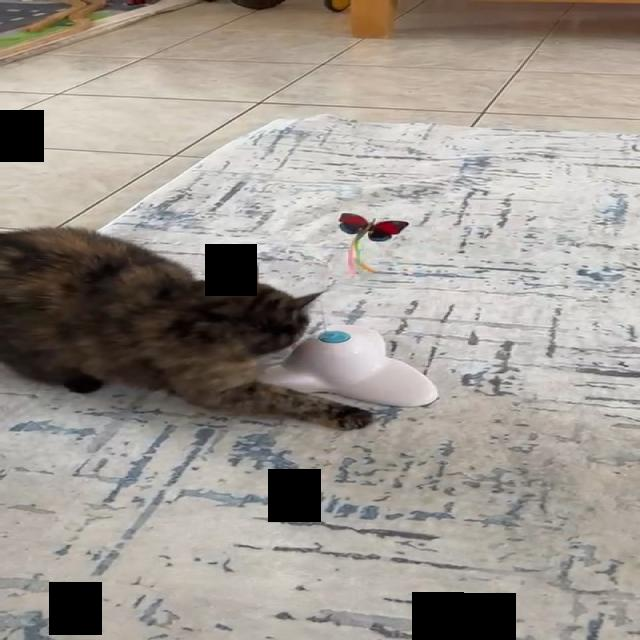authorized: (0, 225, 373, 431)
